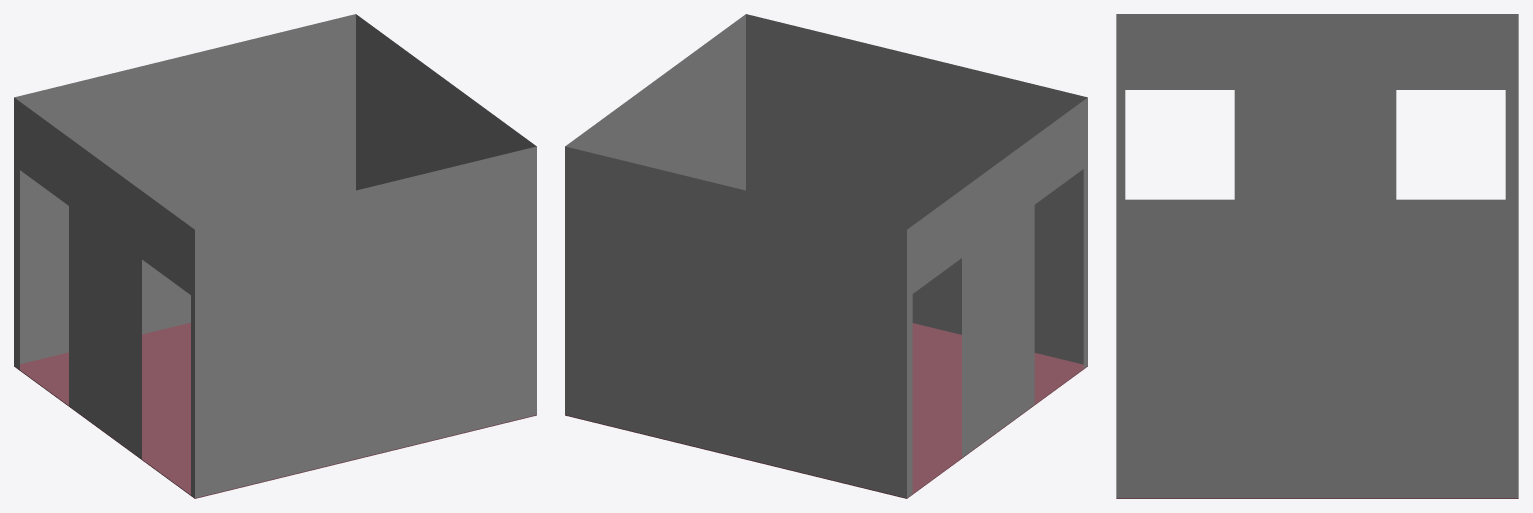
Rendered from 11X12 Room.FBX.
3 views of the same model, side by side, from view 1: azimuth 30°, elevation 25°; view 2: azimuth 150°, elevation 25°; view 3: azimuth 270°, elevation 25° (orthographic). The views are drawn at different scales.
Visible parts, largest first — view 1: Box347, Floor; view 2: Box347, Floor; view 3: Box347.
Boxes of the visible parts, x1,y1,x2,y2 form: Box347: (14, 14, 536, 498); Floor: (20, 322, 190, 494); Box347: (565, 14, 1087, 498); Floor: (912, 323, 1083, 493); Box347: (1116, 14, 1518, 498).
Bounding box in the file's own units: 23.79 × 17.9 × 21.81.
